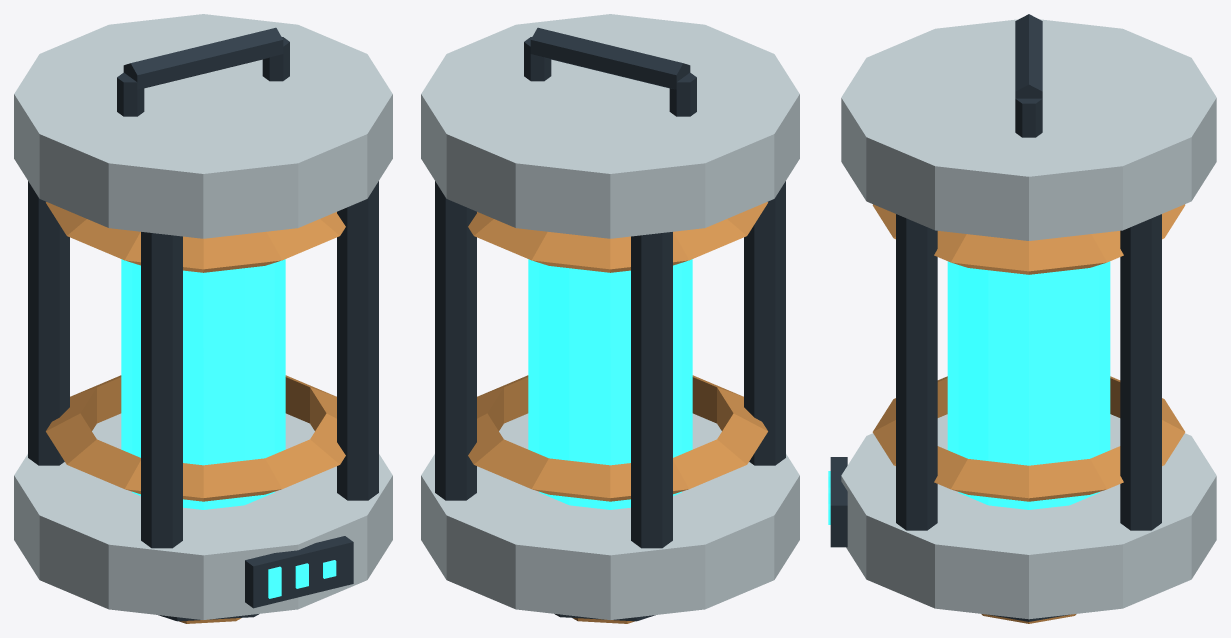
The model's file is fusionreactorcore.fbx.
The picture shows the model from 3 angles, left to right: view 1: azimuth 30°, elevation 25°; view 2: azimuth 150°, elevation 25°; view 3: azimuth 270°, elevation 25°; orthographic projection.
Parts seen in each view (by area): view 1: Fusion Reactor Core.001; view 2: Fusion Reactor Core.001; view 3: Fusion Reactor Core.001.
Boxes of the visible parts, bbox=[...] form: Fusion Reactor Core.001: bbox=[14, 14, 392, 623]; Fusion Reactor Core.001: bbox=[421, 14, 799, 623]; Fusion Reactor Core.001: bbox=[828, 14, 1216, 623].
Size of the model in its own units: 180 by 290 by 186.
